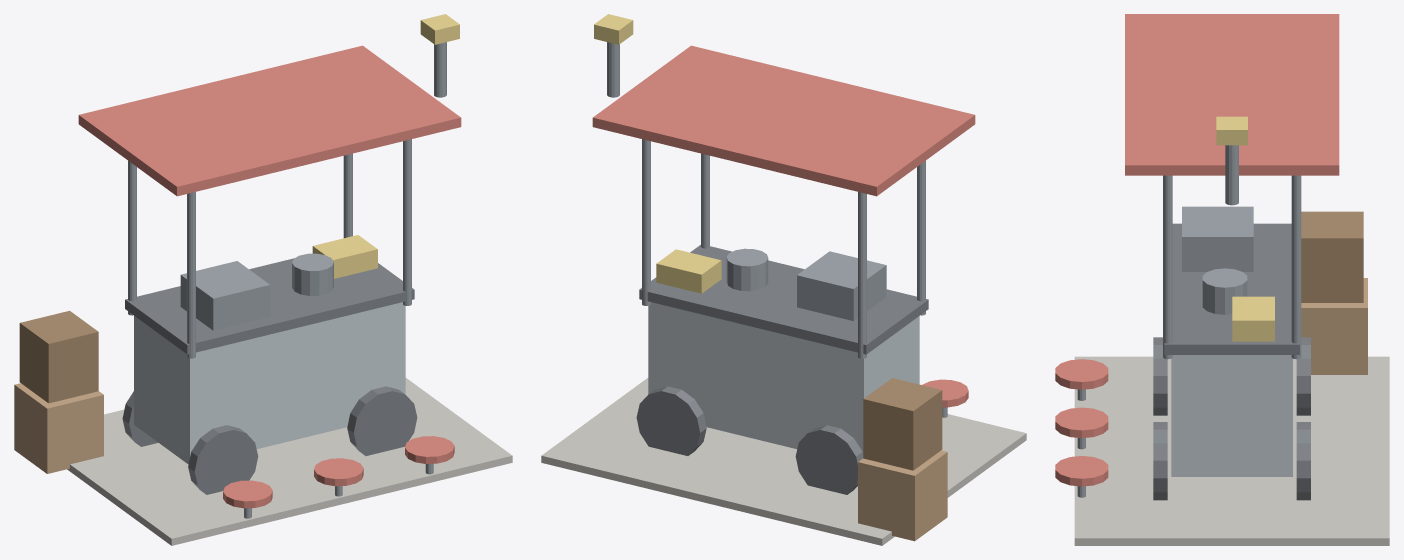
The model's file is webtoon_alley_food_cart.glb.
3 renders of one model, left to right at view 1: azimuth 30°, elevation 25°; view 2: azimuth 150°, elevation 25°; view 3: azimuth 270°, elevation 25°, orthographic. The views are drawn at different scales.
Visible parts, largest first — view 1: red canopy, cart body, alley ground patch, cooking counter, cart wheel (×3), crate, crate top, canopy pole (×4), steamer pot, stool seat (×3), display tray, stock pot (+2 smaller); view 2: red canopy, cart body, alley ground patch, cooking counter, cart wheel (×2), crate, crate top, canopy pole (×4), steamer pot, display tray, stock pot, hanging lamp (+2 smaller); view 3: alley ground patch, red canopy, cart body, cooking counter, crate top, steamer pot, crate, cart wheel (×4), stool seat (×3), canopy pole (×2), display tray, stock pot (+2 smaller).
Part boxes in pixels (left/top/right/bottom): red canopy: left=78, top=45, right=461, bottom=196; cart body: left=134, top=302, right=405, bottom=464; alley ground patch: left=67, top=378, right=512, bottom=545; cooking counter: left=125, top=258, right=414, bottom=354; cart wheel (×3): left=122, top=386, right=417, bottom=494; crate: left=14, top=383, right=103, bottom=473; crate top: left=19, top=310, right=98, bottom=403; canopy pole (×4): left=128, top=139, right=411, bottom=358; steamer pot: left=180, top=261, right=270, bottom=330; stool seat (×3): left=223, top=436, right=454, bottom=508; display tray: left=312, top=235, right=377, bottom=278; stock pot: left=292, top=253, right=333, bottom=295; red canopy: left=592, top=45, right=975, bottom=196; cart body: left=648, top=302, right=919, bottom=453; alley ground patch: left=541, top=378, right=1026, bottom=545; cooking counter: left=639, top=245, right=928, bottom=354; cart wheel (×2): left=636, top=386, right=863, bottom=494; crate: left=858, top=450, right=947, bottom=541; crate top: left=863, top=378, right=942, bottom=470; canopy pole (×4): left=642, top=139, right=925, bottom=358; steamer pot: left=797, top=251, right=886, bottom=320; display tray: left=656, top=249, right=721, bottom=293; stock pot: left=726, top=248, right=768, bottom=291; hanging lamp: left=594, top=14, right=633, bottom=44; alley ground patch: left=1074, top=356, right=1389, bottom=545; red canopy: left=1125, top=14, right=1339, bottom=175; cart body: left=1171, top=355, right=1292, bottom=476; cooking counter: left=1164, top=223, right=1299, bottom=354; crate top: left=1301, top=211, right=1363, bottom=302; steamer pot: left=1182, top=206, right=1253, bottom=271; crate: left=1301, top=278, right=1367, bottom=374; cart wheel (×4): left=1153, top=337, right=1310, bottom=500; stool seat (×3): left=1055, top=359, right=1108, bottom=486; canopy pole (×2): left=1163, top=175, right=1301, bottom=359; display tray: left=1232, top=296, right=1274, bottom=341; stock pot: left=1202, top=268, right=1247, bottom=314.
Size of the model in its own units: 3.31 by 3.26 by 2.34.
